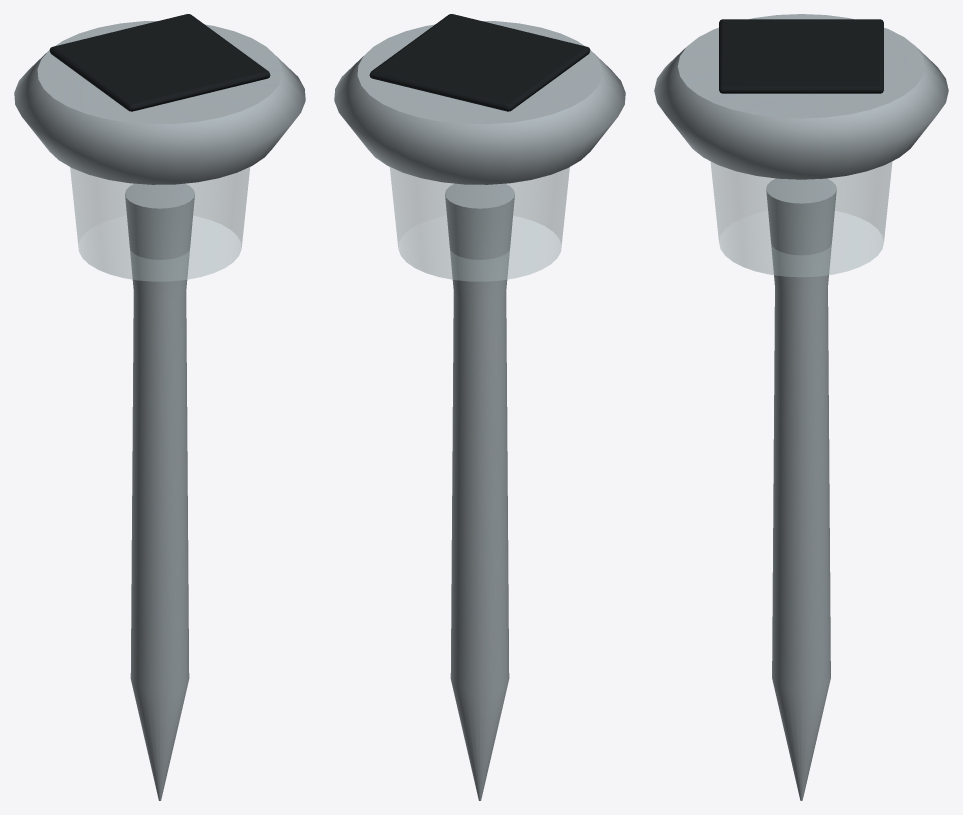
File: SolarPathLight.fbx
The picture shows the model from 3 angles, left to right: view 1: azimuth 30°, elevation 25°; view 2: azimuth 150°, elevation 25°; view 3: azimuth 270°, elevation 25°; orthographic projection.
Parts seen in each view (by area): view 1: SolarPathLight__Body, SolarPathLight__Glass; view 2: SolarPathLight__Body, SolarPathLight__Glass; view 3: SolarPathLight__Body, SolarPathLight__Glass.
Boxes of the visible parts, box(x1,y1,x2,y2) form: SolarPathLight__Body: box(14, 14, 305, 800); SolarPathLight__Glass: box(70, 167, 250, 281); SolarPathLight__Body: box(334, 14, 625, 800); SolarPathLight__Glass: box(389, 167, 569, 281); SolarPathLight__Body: box(654, 14, 948, 800); SolarPathLight__Glass: box(710, 162, 892, 277).
Bounding box in the file's own units: 14 × 39.2 × 14.
Materials: 2 (1 with a texture image).
